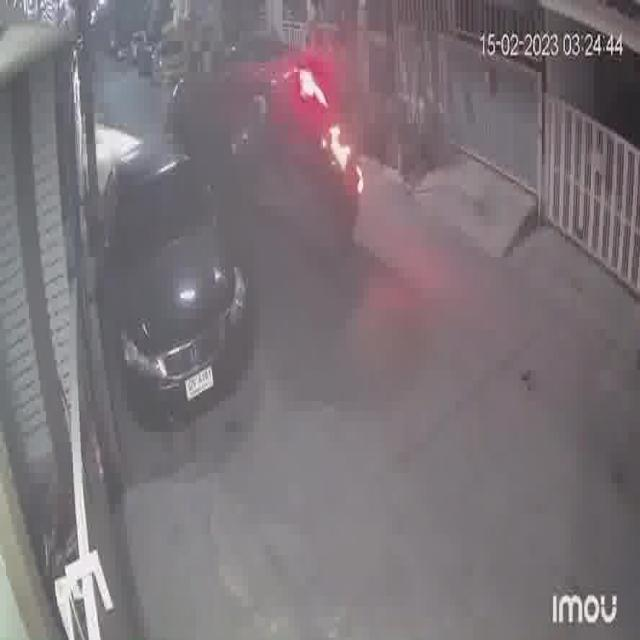multiple_accident: (87, 45, 372, 440)
